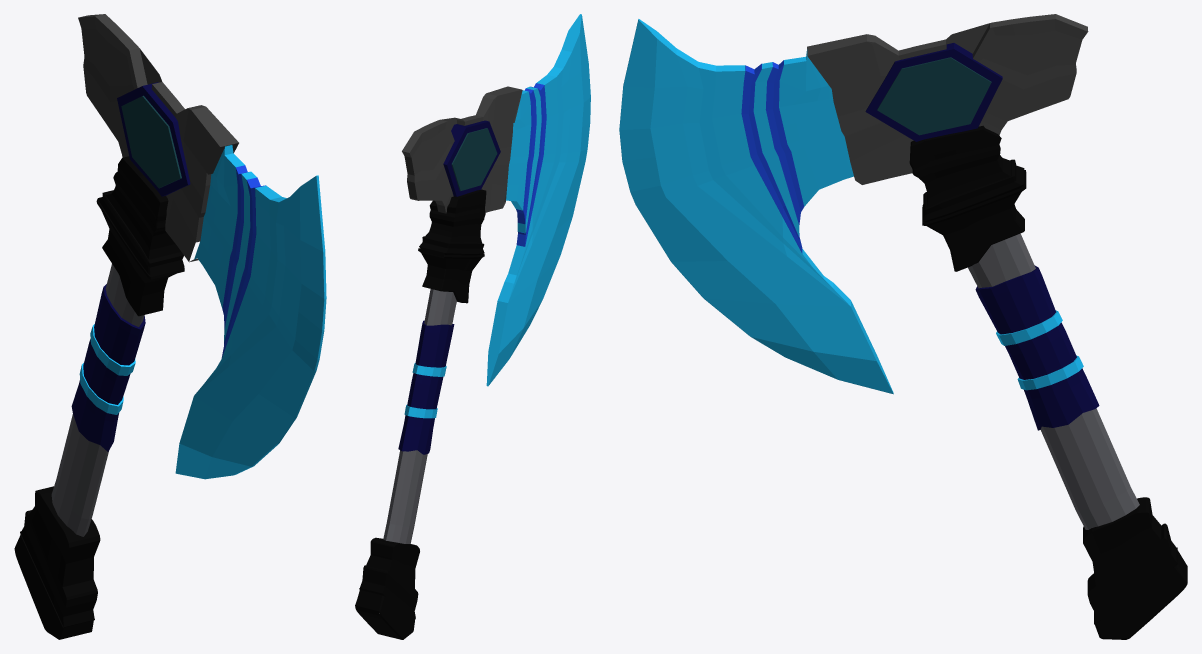
File: sc_fi_melee_weapon_sci_fi_axe.glb
3 views of the same model, side by side, from view 1: azimuth 30°, elevation 25°; view 2: azimuth 150°, elevation 25°; view 3: azimuth 270°, elevation 25° (orthographic). The views are drawn at different scales.
Parts seen in each view (by area): view 1: Cube.017; view 2: Cube.017; view 3: Cube.017.
Part boxes in pixels (box(x1,y1,x2,y2)): Cube.017: box(14, 14, 326, 639); Cube.017: box(355, 14, 590, 639); Cube.017: box(619, 14, 1187, 639).
Size of the model in its own units: 0.121 by 2.02 by 1.69.
